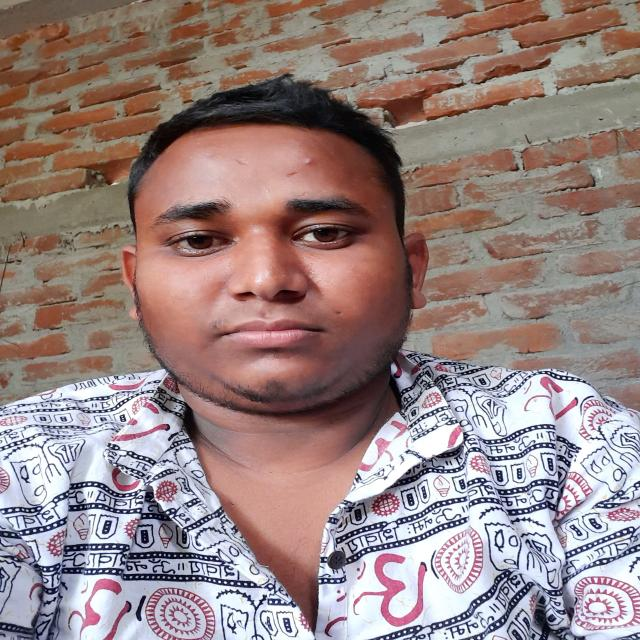Acne: (304, 156, 315, 165), (379, 202, 388, 210)
Englarged-Pores: (162, 281, 198, 304), (339, 271, 364, 286)
